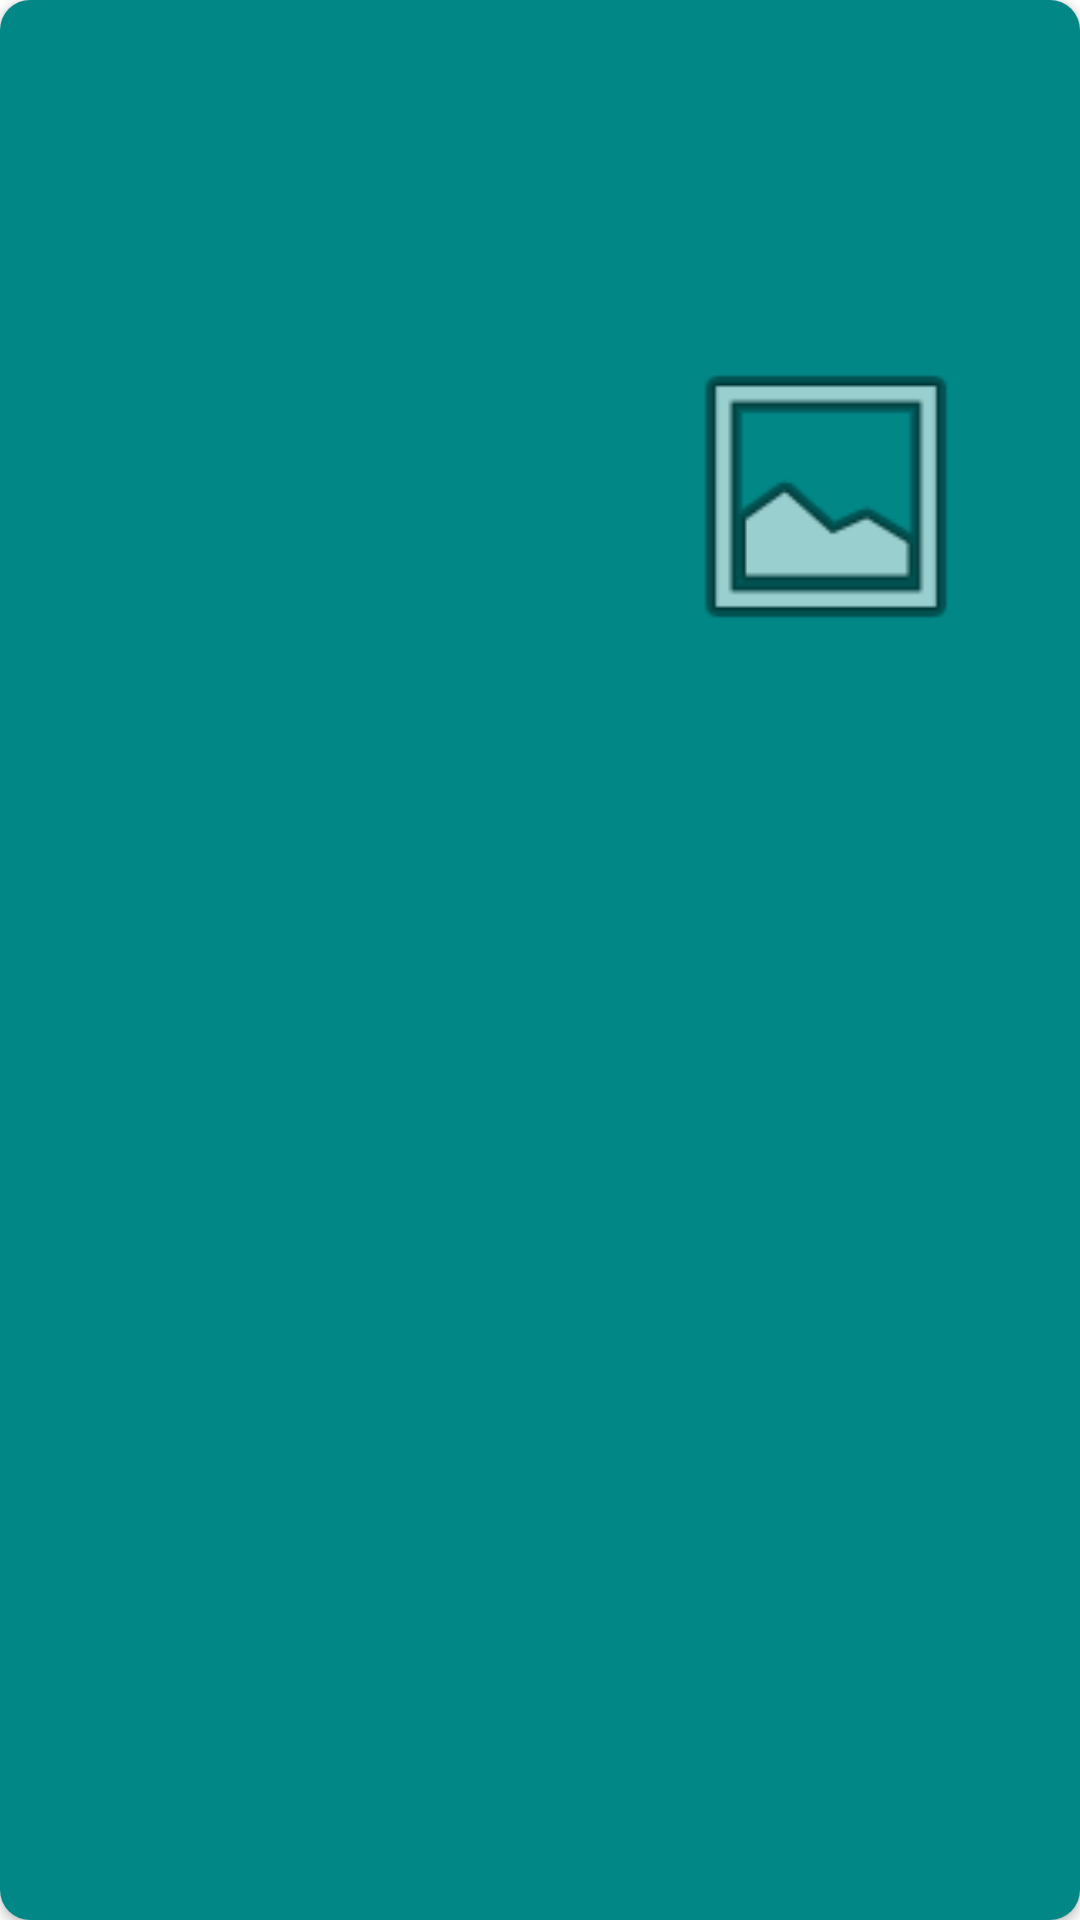

Where to tap for icons on this 1080w x 1920h app screen, as (x,y):
gallery: (826,496)
